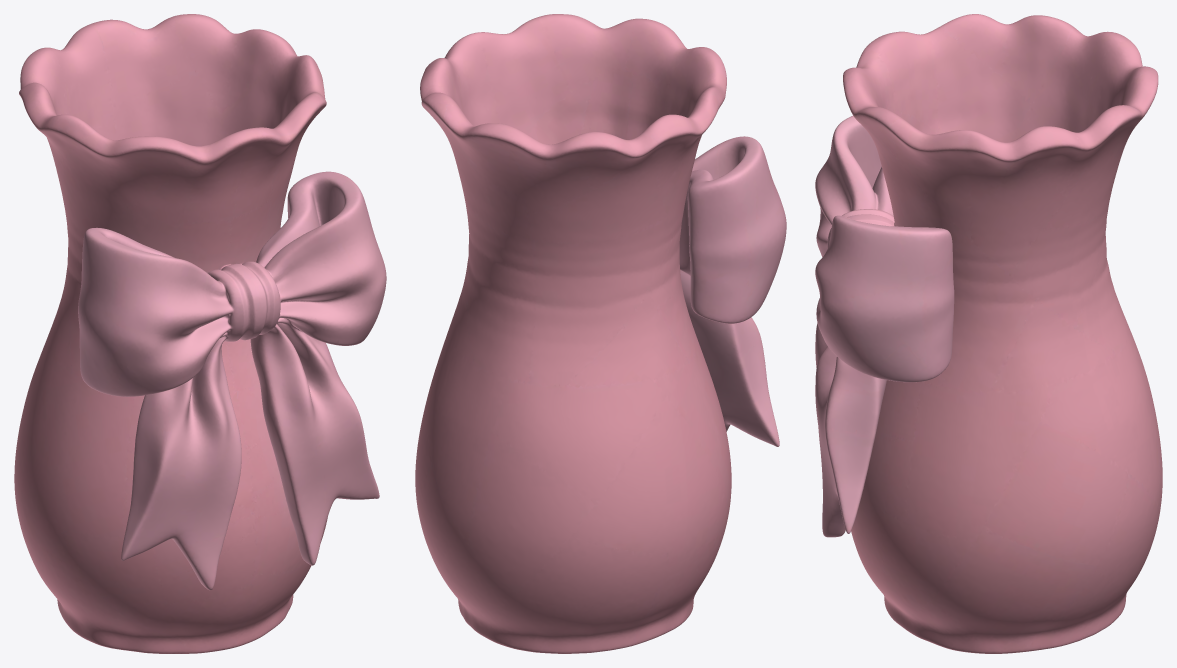
File: pink vase.glb
3 renders of one model, left to right at view 1: azimuth 30°, elevation 25°; view 2: azimuth 150°, elevation 25°; view 3: azimuth 270°, elevation 25°, orthographic.
Size of the model in its own units: 1.06 by 1.9 by 1.12.
1 material, 1 textured.
